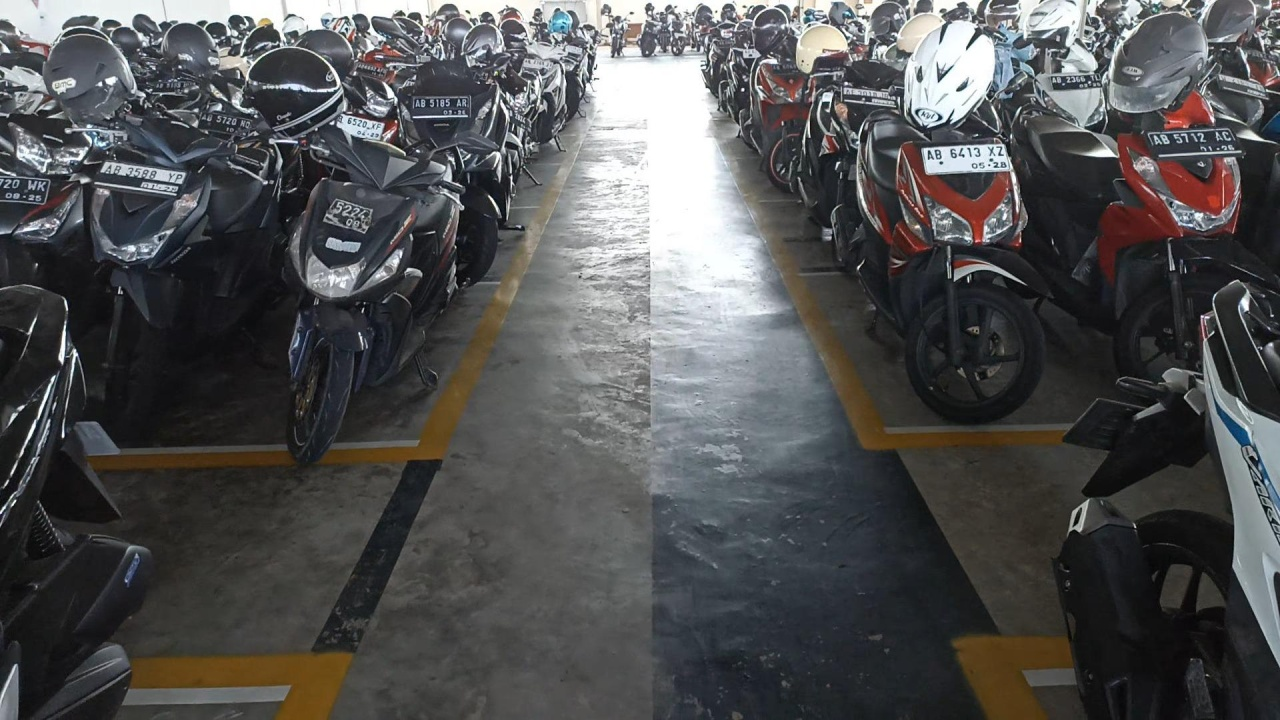plate: (92, 160, 189, 197), (1145, 127, 1243, 160), (922, 145, 1011, 174), (412, 96, 470, 118), (1050, 73, 1103, 91)
